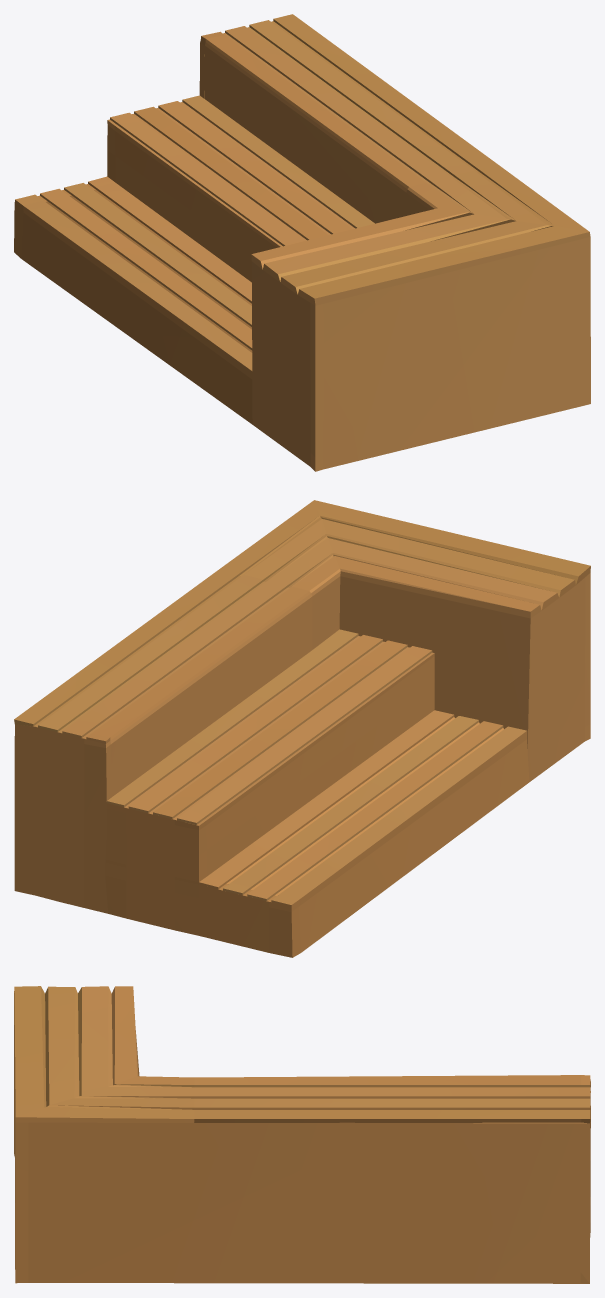
File: sauna revize large.fbx
The picture shows the model from 3 angles, top to bottom: view 1: azimuth 30°, elevation 25°; view 2: azimuth 150°, elevation 25°; view 3: azimuth 270°, elevation 25°; orthographic projection. The views are drawn at different scales.
Visible parts, largest first — view 1: sauna large; view 2: sauna large; view 3: sauna large.
Part boxes in pixels (x1=…): sauna large: x1=14, y1=14, x2=590, y2=471; sauna large: x1=14, y1=500, x2=590, y2=957; sauna large: x1=14, y1=986, x2=590, y2=1283.
Bounding box in the file's own units: 350 × 208 × 650.
Materials: 1 (1 with a texture image).
